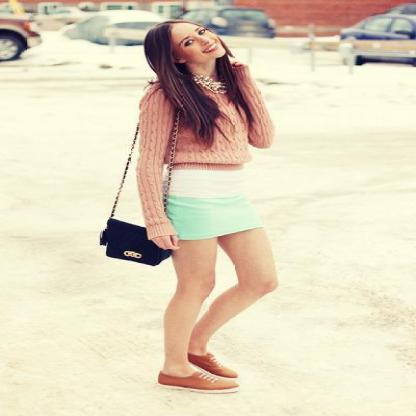bag: (100, 218, 172, 266)
jacket: (138, 64, 272, 229)
shoe: (158, 353, 236, 390)
skirt: (163, 164, 268, 240)
